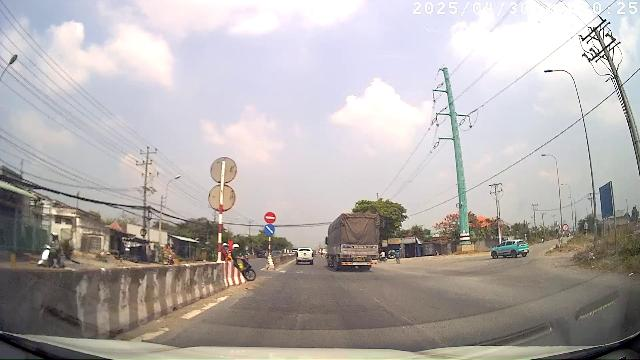102-cam-di-nguoc-chieu: (264, 212, 276, 223)
302a-huong-phai-di-vong-chuong-ngai-vat-1: (264, 224, 275, 236)
